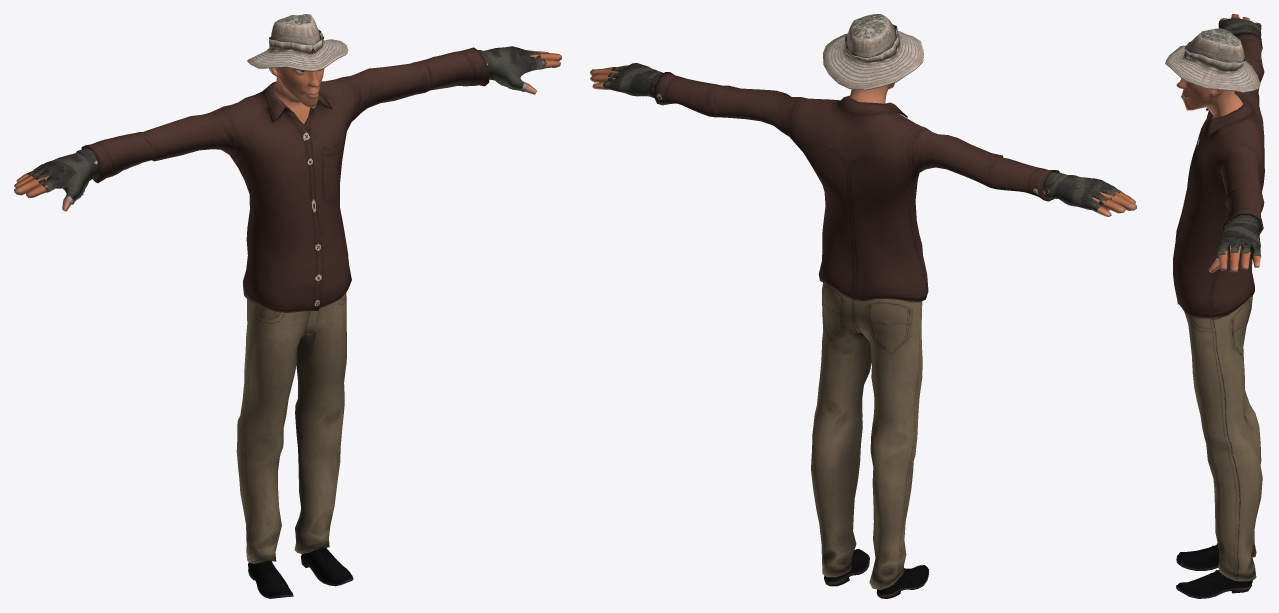
Rendered from Jack.obj.
The picture shows the model from 3 angles, left to right: view 1: azimuth 30°, elevation 25°; view 2: azimuth 150°, elevation 25°; view 3: azimuth 270°, elevation 25°; orthographic projection. The views are drawn at different scales.
Parts seen in each view (by area): view 1: Tops, Bottoms, Gloves, Hats, Body, Shoes; view 2: Tops, Bottoms, Hats, Gloves, Body, Shoes; view 3: Tops, Bottoms, Hats, Body, Shoes, Gloves.
Part boxes in pixels (bbox=[...]): Tops: bbox=[81, 47, 489, 312]; Bottoms: bbox=[236, 293, 346, 563]; Gloves: bbox=[26, 46, 546, 201]; Hats: bbox=[247, 14, 348, 71]; Body: bbox=[14, 46, 561, 211]; Shoes: bbox=[248, 547, 353, 598]; Tops: bbox=[653, 72, 1059, 301]; Bottoms: bbox=[811, 283, 922, 589]; Hats: bbox=[823, 14, 923, 90]; Gloves: bbox=[603, 63, 1121, 211]; Body: bbox=[590, 65, 1136, 216]; Shoes: bbox=[824, 548, 928, 598]; Tops: bbox=[1173, 32, 1264, 318]; Bottoms: bbox=[1184, 295, 1262, 581]; Hats: bbox=[1165, 28, 1260, 92]; Body: bbox=[1176, 14, 1260, 272]; Shoes: bbox=[1176, 543, 1252, 598]; Gloves: bbox=[1216, 17, 1261, 259].
Size of the model in its own units: 179 by 177 by 29.32.
6 materials, 6 textured.
